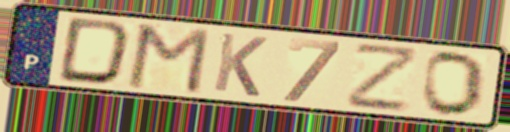7: (282, 36, 344, 104)
D: (54, 15, 135, 88)
K: (210, 30, 271, 100)
M: (122, 22, 213, 97)
O: (420, 49, 489, 118)
Z: (345, 43, 422, 114)
